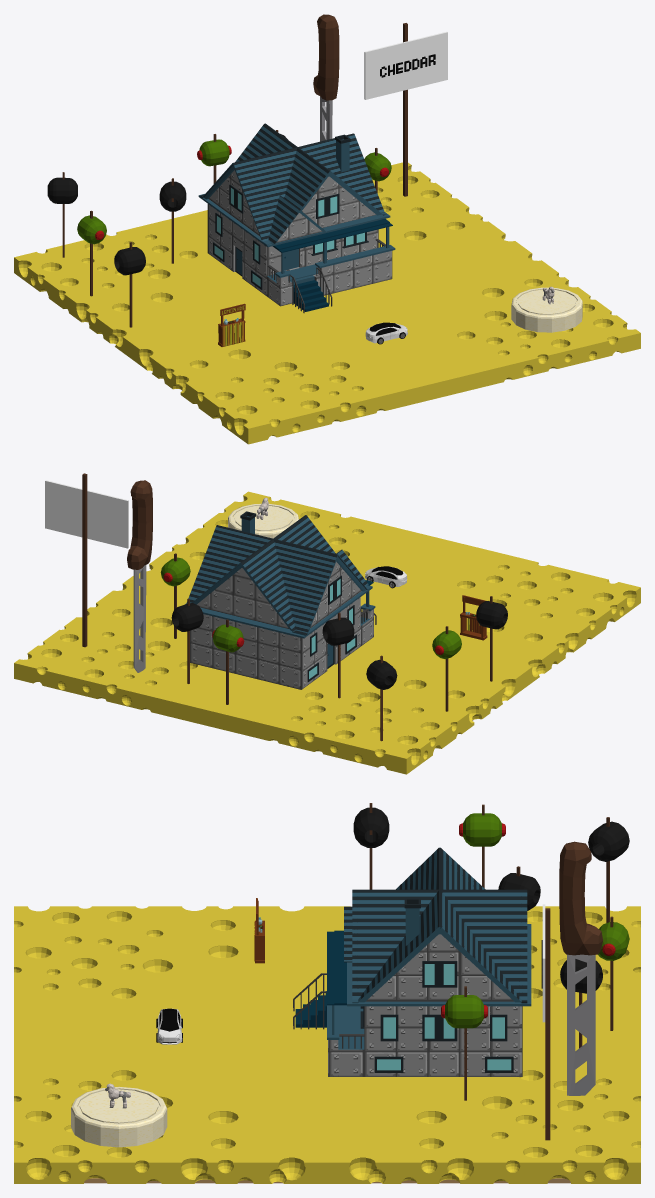
The picture shows the model from 3 angles, top to bottom: view 1: azimuth 30°, elevation 25°; view 2: azimuth 150°, elevation 25°; view 3: azimuth 270°, elevation 25°; orthographic projection. The views are drawn at different scales.
Visible parts, largest first — view 1: Cube.022, Cube.078, Cube.023, Cylinder.016, Cube.024, Sphere.017, OBJRANDOM_LEMONADE_STAND, Sphere.016, Sphere.020, Sphere.018, Sphere.022, VEHICLES_TESLA (+1 smaller); view 2: Cube.022, Cube.078, Cube.023, Cube.024, Cylinder.016, Sphere.017, Sphere.020, Sphere.021, Sphere.016, Sphere.018, Sphere.022, Sphere.019 (+2 smaller); view 3: Cube.022, Cube.078, Cube.024, Cylinder.016, Cube.023, Sphere.019, Sphere.016, Sphere.018, Sphere.017, Sphere.022, VEHICLES_TESLA, Sphere.020 (+3 smaller).
Part boxes in pixels (left/top/right/bottom): Cube.022: left=14, top=162, right=640, bottom=444; Cube.078: left=198, top=123, right=395, bottom=313; Cube.023: left=364, top=23, right=447, bottom=196; Cylinder.016: left=511, top=287, right=582, bottom=332; Cube.024: left=313, top=14, right=339, bottom=141; Sphere.017: left=114, top=242, right=145, bottom=327; OBJRANDOM_LEMONADE_STAND: left=218, top=303, right=245, bottom=346; Sphere.016: left=47, top=172, right=77, bottom=257; Sphere.020: left=159, top=178, right=186, bottom=263; Sphere.018: left=77, top=210, right=106, bottom=296; Sphere.022: left=197, top=134, right=231, bottom=183; VEHICLES_TESLA: left=365, top=322, right=407, bottom=344; Cube.022: left=14, top=491, right=640, bottom=774; Cube.078: left=185, top=511, right=376, bottom=689; Cube.023: left=45, top=473, right=128, bottom=647; Cube.024: left=127, top=480, right=152, bottom=672; Cylinder.016: left=228, top=503, right=298, bottom=538; Sphere.017: left=476, top=596, right=507, bottom=681; Sphere.020: left=322, top=612, right=354, bottom=698; Sphere.021: left=171, top=598, right=203, bottom=683; Sphere.016: left=366, top=655, right=397, bottom=741; Sphere.018: left=432, top=626, right=461, bottom=711; Sphere.022: left=212, top=619, right=244, bottom=704; Sphere.019: left=160, top=553, right=190, bottom=638; Cube.022: left=14, top=906, right=640, bottom=1183; Cube.078: left=293, top=847, right=531, bottom=1076; Cube.024: left=559, top=841, right=602, bottom=1095; Cylinder.016: left=71, top=1086, right=167, bottom=1147; Cube.023: left=541, top=904, right=550, bottom=1140; Sphere.019: left=441, top=986, right=487, bottom=1100; Sphere.016: left=588, top=817, right=629, bottom=922; Sphere.018: left=459, top=804, right=505, bottom=887; Sphere.017: left=353, top=803, right=389, bottom=889; Sphere.022: left=598, top=916, right=629, bottom=1030; VEHICLES_TESLA: left=156, top=1008, right=182, bottom=1044; Sphere.020: left=498, top=866, right=540, bottom=910.
Bounding box in the file's own units: 3917 × 1957 × 4000.
35 materials, 6 textured.
